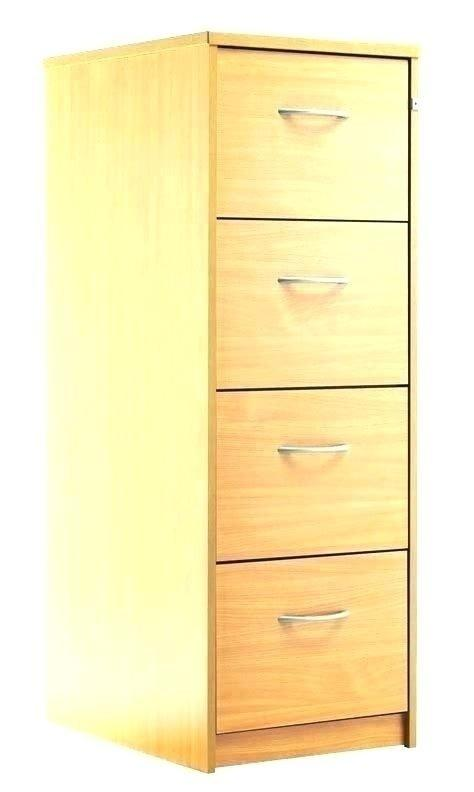cabinet_door: (213, 551, 406, 725), (214, 386, 405, 555), (215, 51, 407, 214), (215, 218, 405, 378)
handle: (275, 427, 353, 475), (273, 260, 353, 303), (274, 599, 352, 640), (274, 96, 352, 136)
